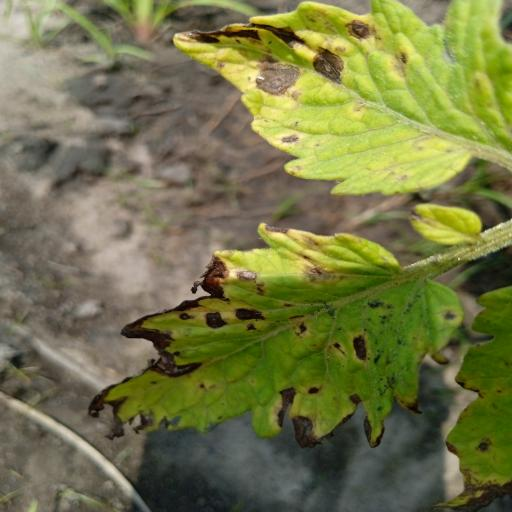Tomato_Brown_Spots: (86, 221, 472, 453), (164, 0, 512, 196)
